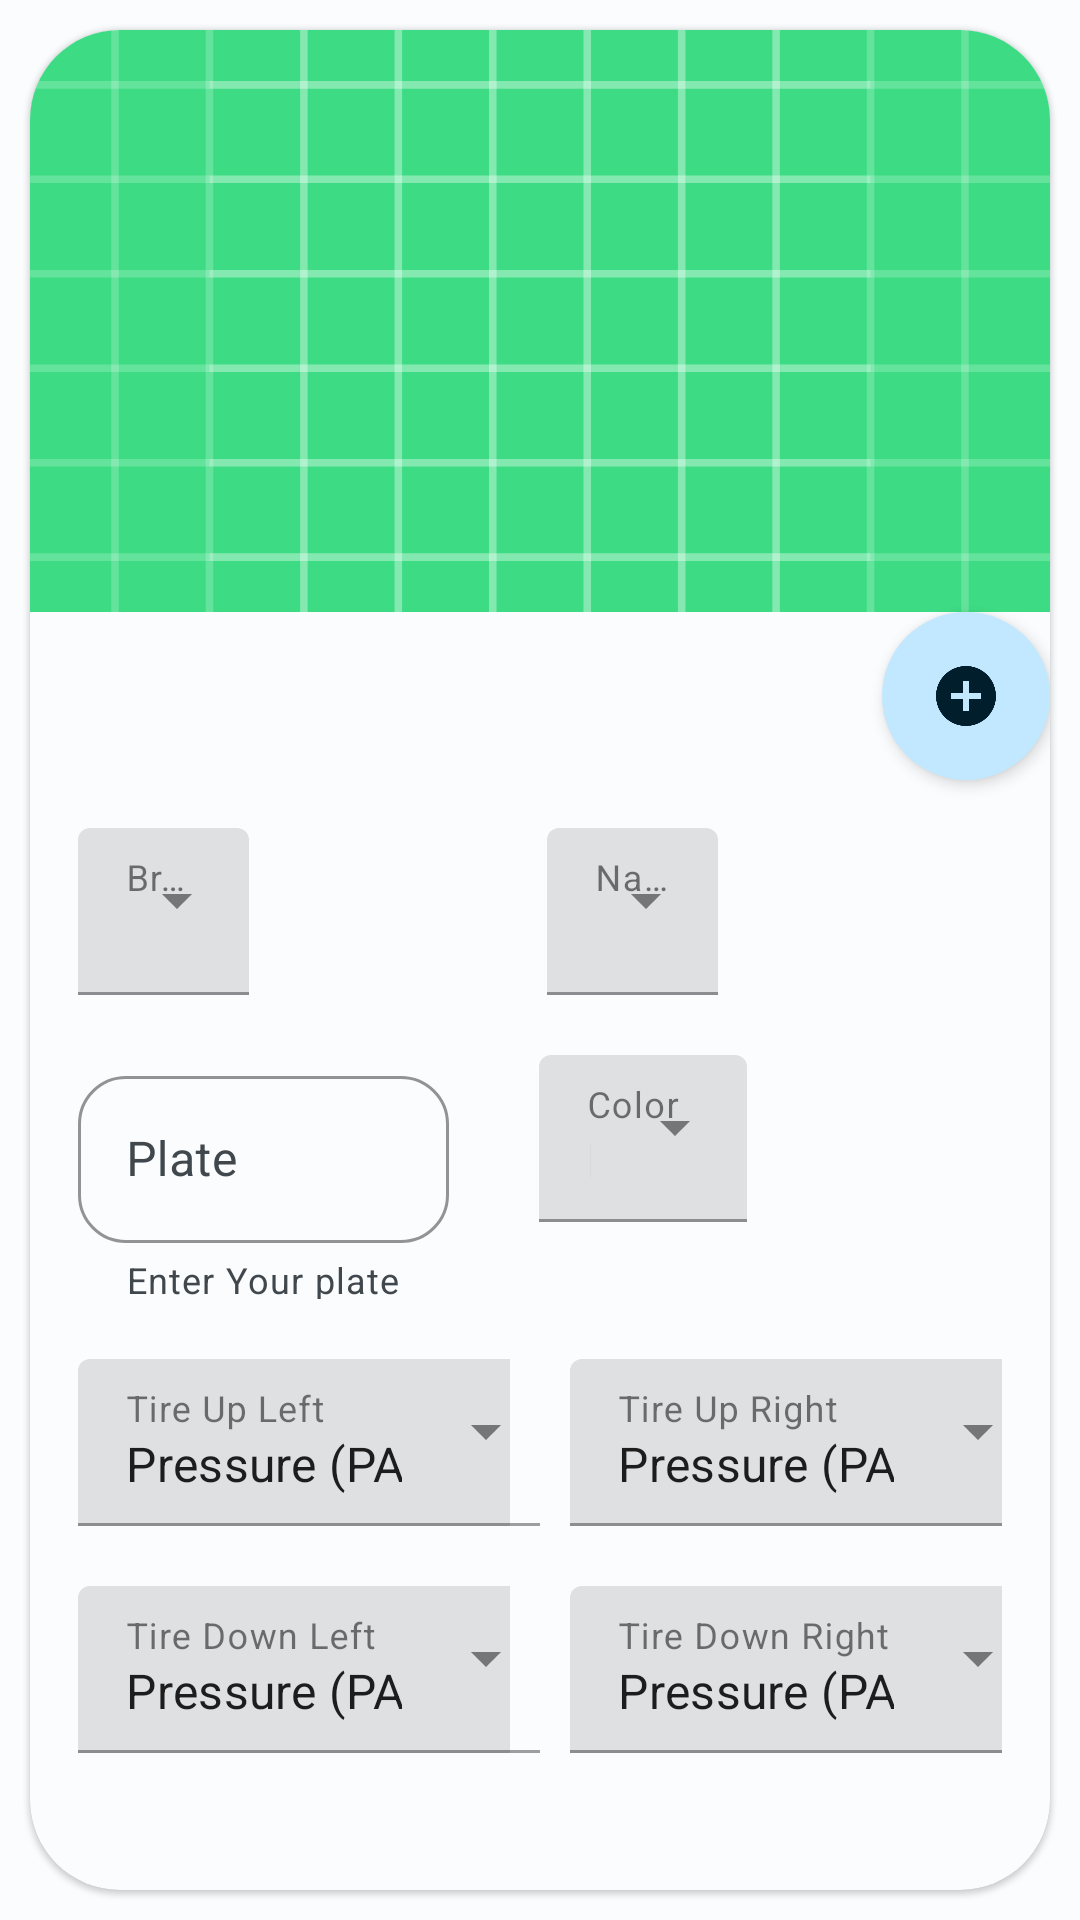

Screen size 1080×1920. Icon name, then its box in pixels as (x1, y1, x2, y2):
add circle: (882, 612, 1050, 780)
